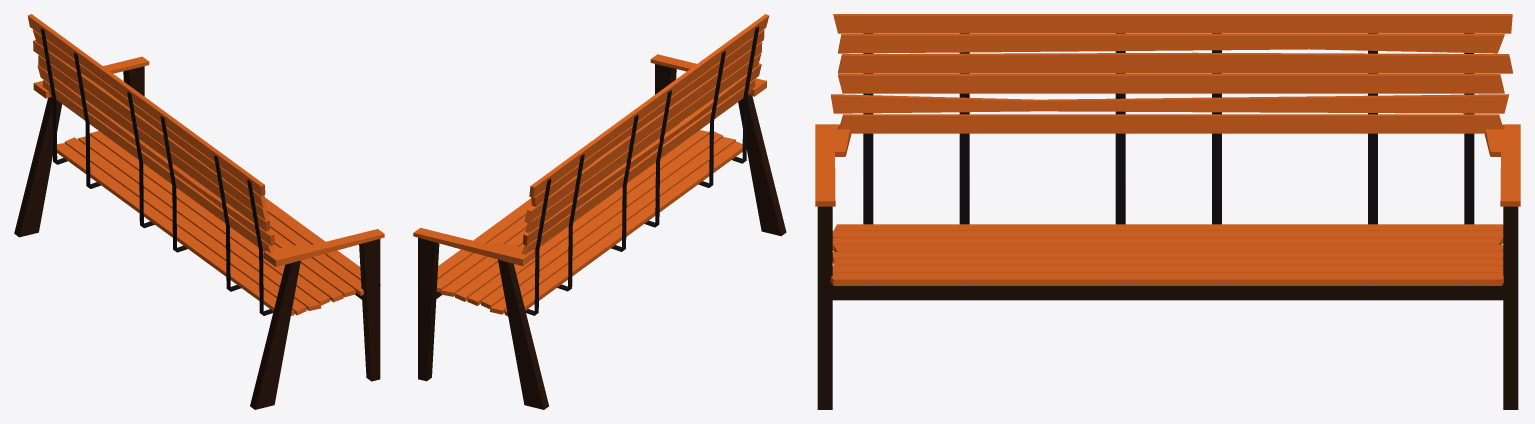
Rendered from Bench.fbx.
3 renders of one model, left to right at view 1: azimuth 30°, elevation 25°; view 2: azimuth 150°, elevation 25°; view 3: azimuth 270°, elevation 25°, orthographic. The views are drawn at different scales.
Visible parts, largest first — view 1: BackRest.001, Bench.003, FrontLegs.001, Steel.001, Armrest.001; view 2: BackRest.001, Bench.003, FrontLegs.001, Steel.001, Armrest.001; view 3: BackRest.001, Bench.003, FrontLegs.001, Steel.001, Armrest.001.
Part boxes in pixels (box(x1,y1,x2,y2)): BackRest.001: box(28, 14, 274, 253); Bench.003: box(57, 131, 380, 315); FrontLegs.001: box(14, 66, 380, 409); Steel.001: box(40, 28, 273, 315); Armrest.001: box(33, 56, 384, 266); BackRest.001: box(521, 14, 769, 254); Bench.003: box(436, 130, 742, 316); FrontLegs.001: box(418, 64, 786, 409); Steel.001: box(525, 26, 759, 315); Armrest.001: box(413, 54, 766, 266); BackRest.001: box(831, 14, 1512, 133); Bench.003: box(830, 224, 1503, 285); FrontLegs.001: box(817, 206, 1518, 409); Steel.001: box(863, 33, 1474, 286); Armrest.001: box(815, 124, 1520, 206).
Size of the model in its own units: 90.82 by 144 by 291.
